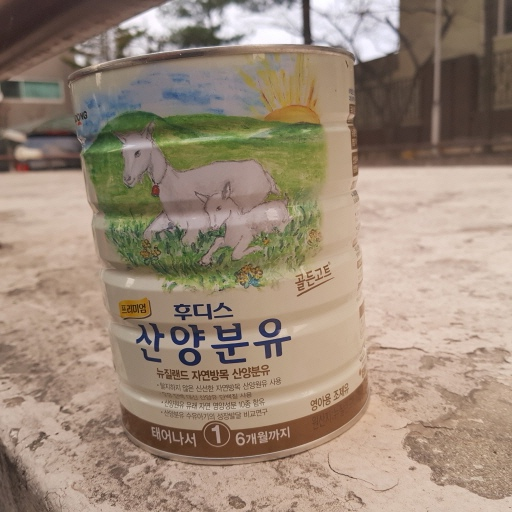Metal_1: (69, 44, 374, 466)
